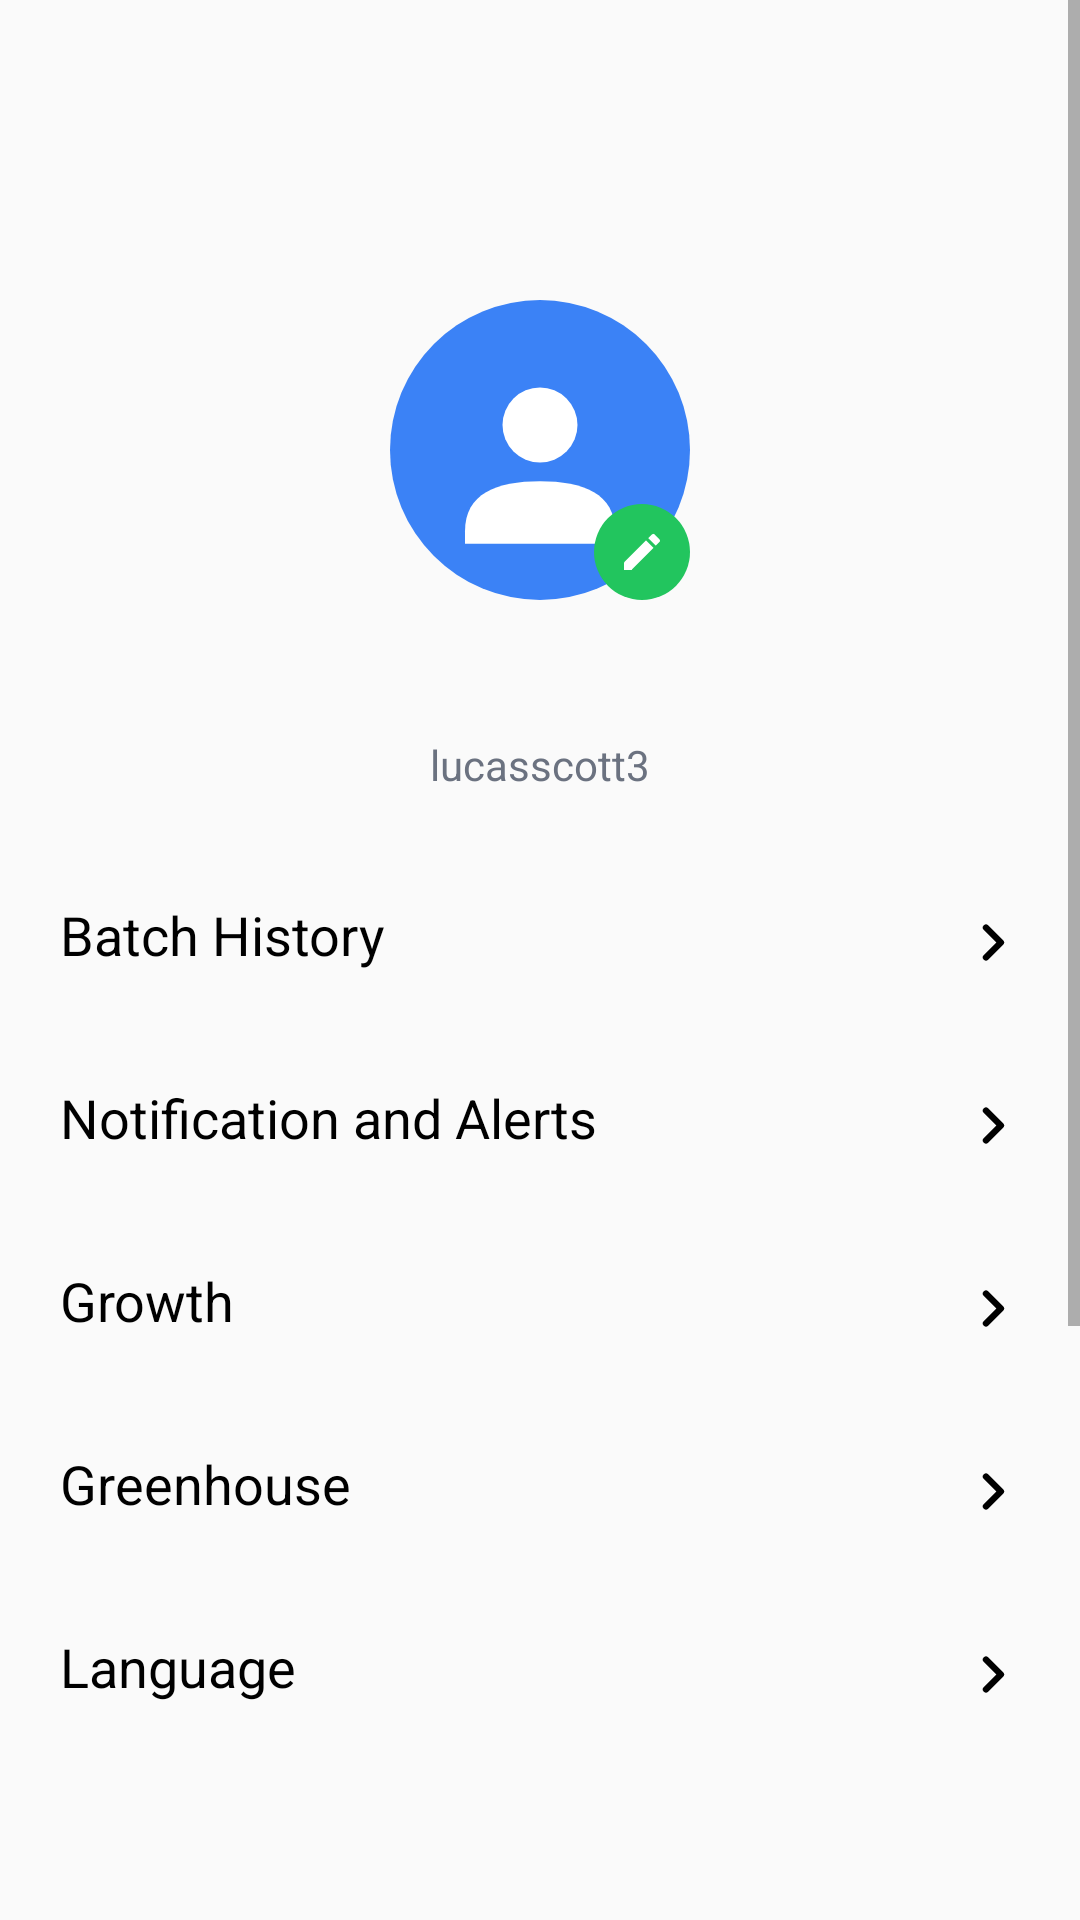

Named icons in this screenshot (1080 x 1920) and their centers, (x,y):
edit pencil: (642,552)
